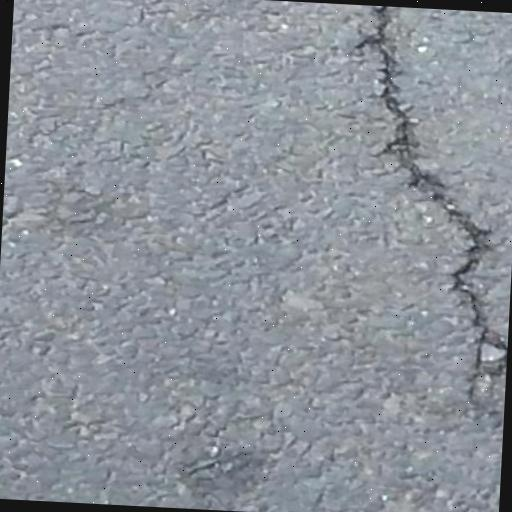spalling: (363, 12, 506, 402)
